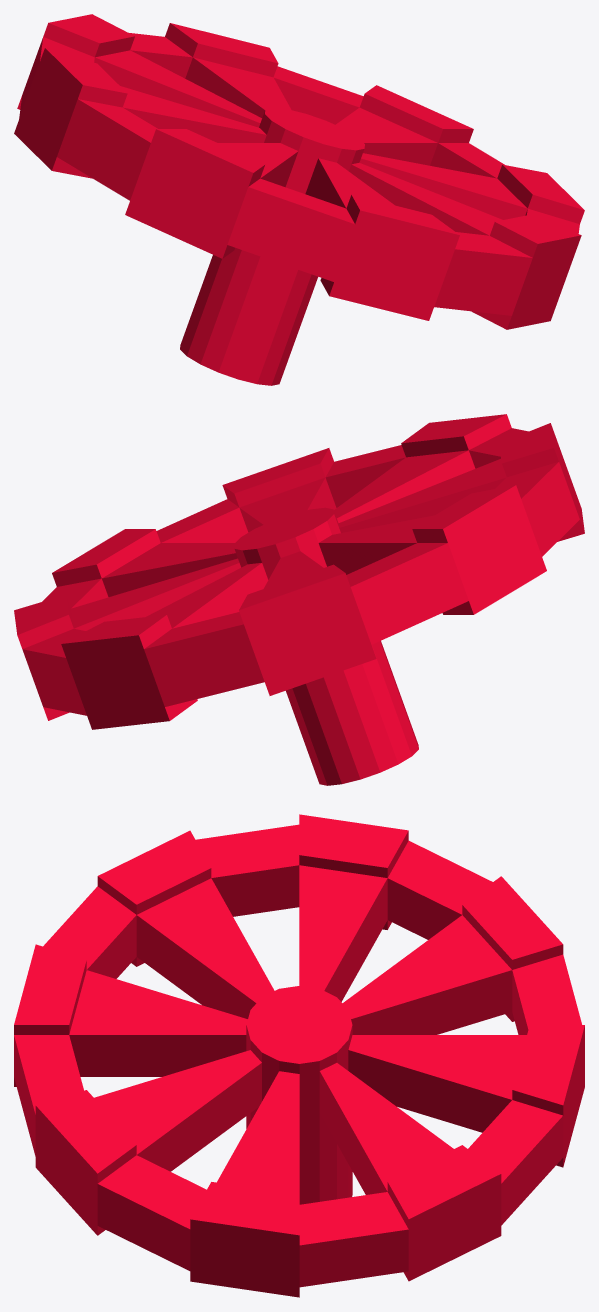
Rendered from sprinklerpipe_valve.fbx.
The picture shows the model from 3 angles, top to bottom: view 1: azimuth 30°, elevation 25°; view 2: azimuth 150°, elevation 25°; view 3: azimuth 270°, elevation 25°; orthographic projection.
Visible parts, largest first — view 1: Vavle; view 2: Vavle; view 3: Vavle.
Boxes of the visible parts, x1,y1,x2,y2 form: Vavle: (14, 14, 584, 385); Vavle: (14, 414, 584, 785); Vavle: (14, 814, 584, 1297).
Bounding box in the file's own units: 37.55 × 24.2 × 38.1.
